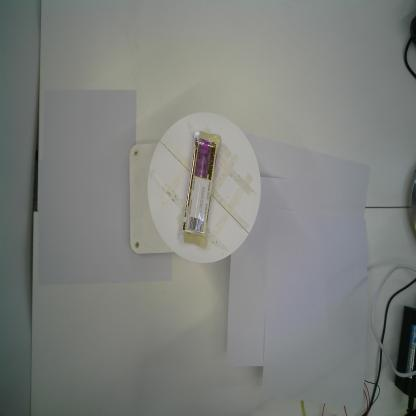Chocolate: (178, 130, 221, 248)
